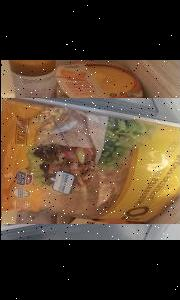Tortillas de trigo: (1, 98, 180, 224)
